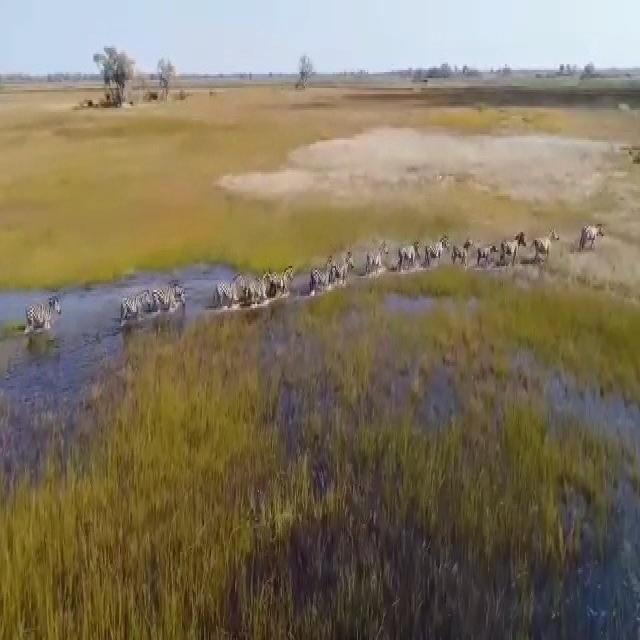Zebra: (20, 294, 64, 346), (212, 265, 245, 318), (531, 226, 562, 276), (116, 288, 153, 328), (154, 276, 188, 317), (576, 220, 612, 255), (363, 239, 387, 289), (247, 266, 273, 307), (474, 236, 502, 273), (272, 260, 296, 303), (502, 230, 527, 271), (333, 253, 358, 292), (311, 253, 334, 294), (392, 242, 425, 269), (450, 236, 473, 272), (426, 236, 450, 270)
